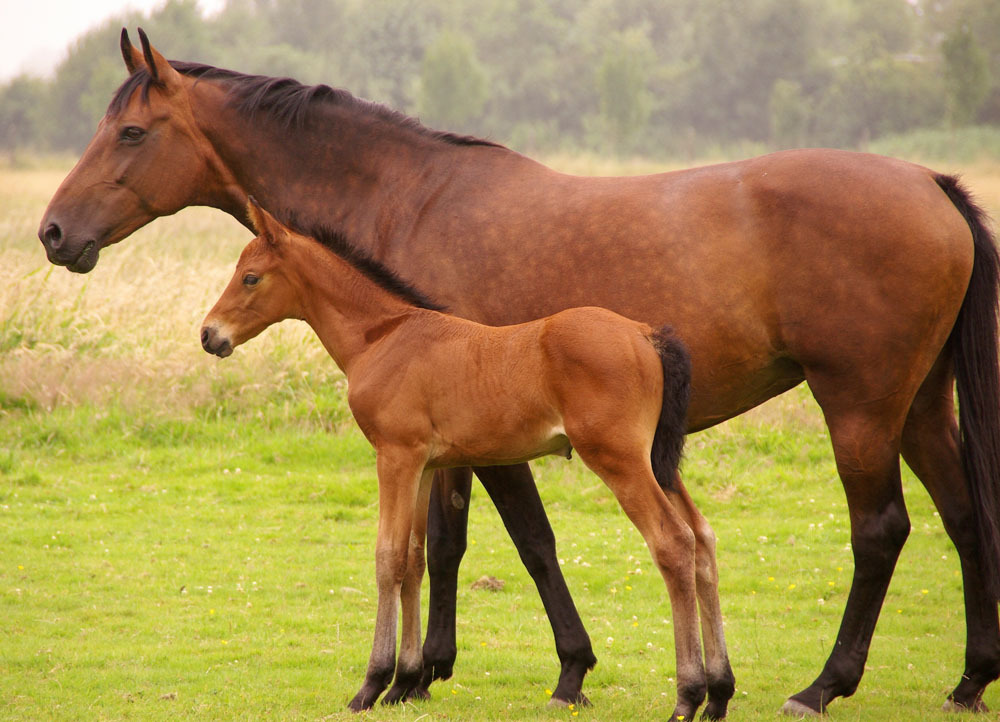horse: (33, 22, 1000, 713), (195, 187, 742, 722)
